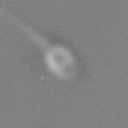normal: (1, 1, 50, 46)
